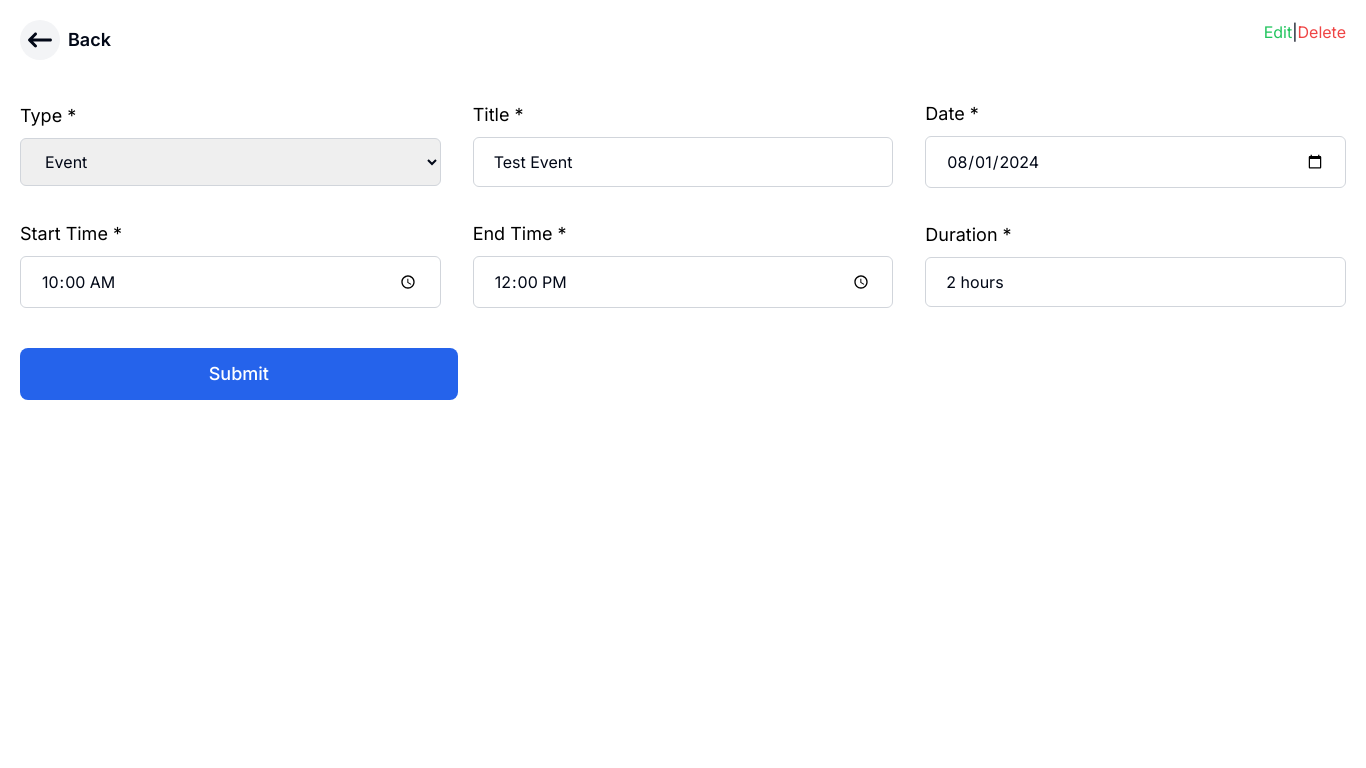
Test: EditDetails Component › displays success message on update
Replace the text in the field labelled "Title *" with "Updated Title" at (683,162), box 473,137 -> 893,187
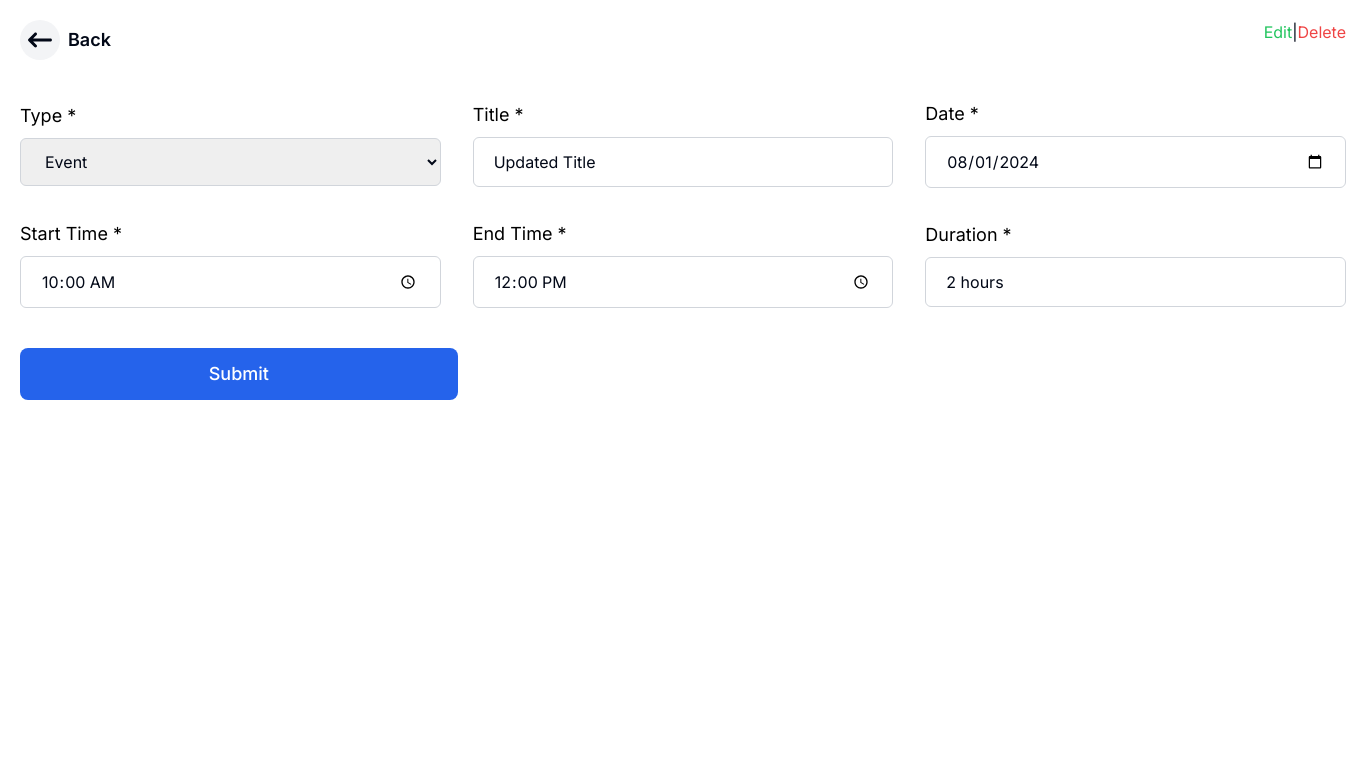
Click the button "Edit" at (1278,32), box 1264,20 -> 1292,44
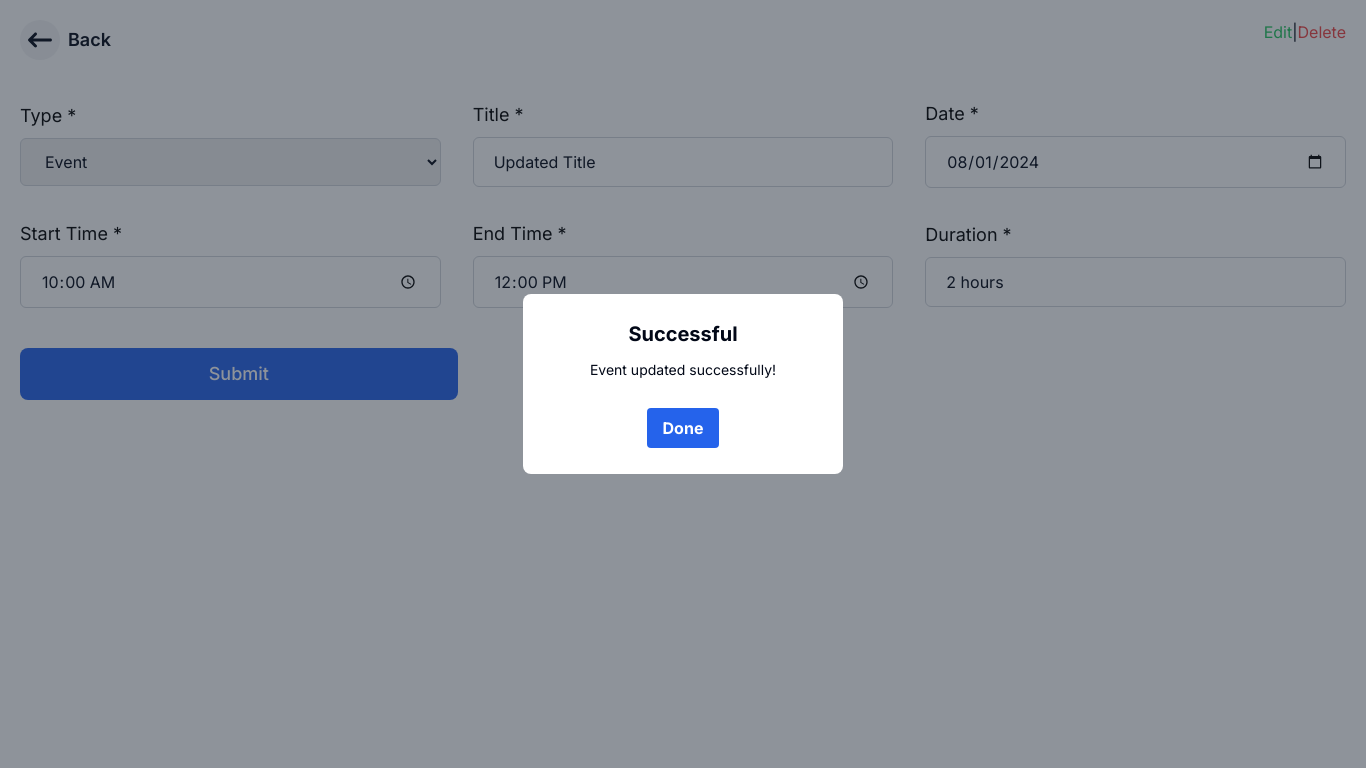
Result: the heading "Event updated successfully!" is shown at 590,360 -> 776,380
